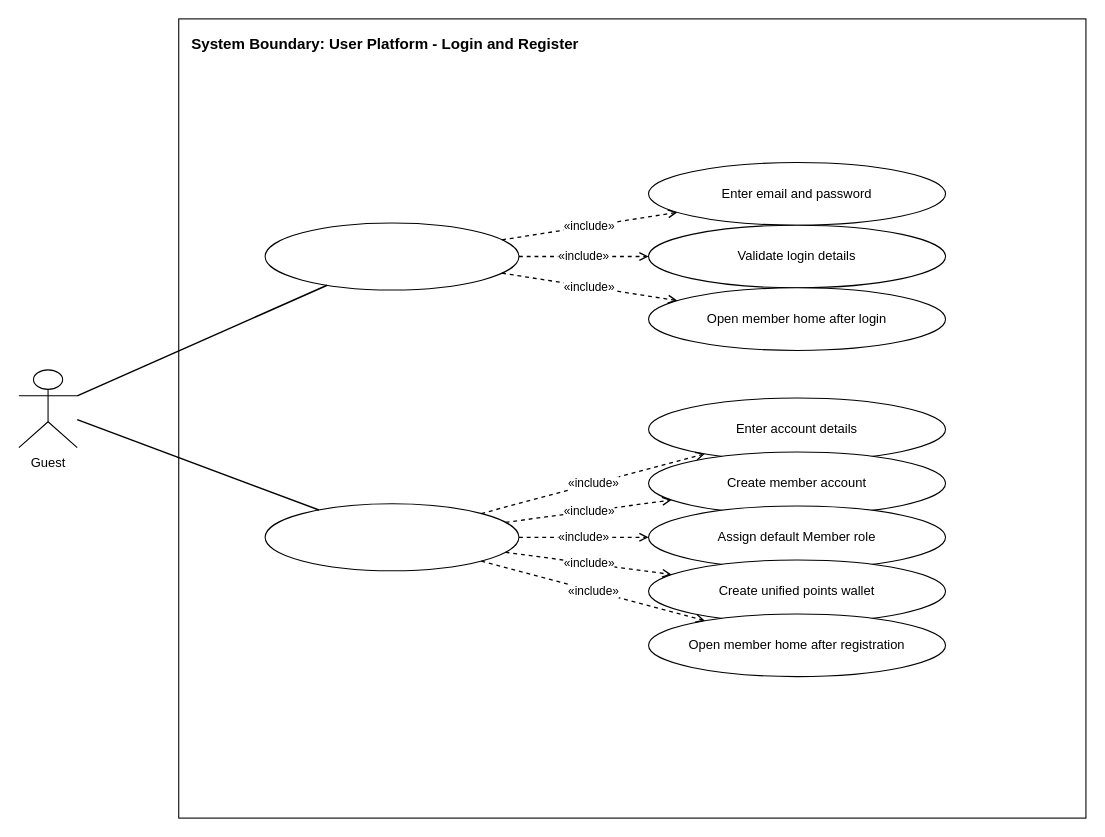
Some shapes in this 1105 by 837 pixel diagram are drawn without their labels. The box of each missing label's shape, as (x1, y1, x2, y2) in pixels:
Log in: (264, 222, 519, 290)
Register member account: (264, 503, 519, 571)
